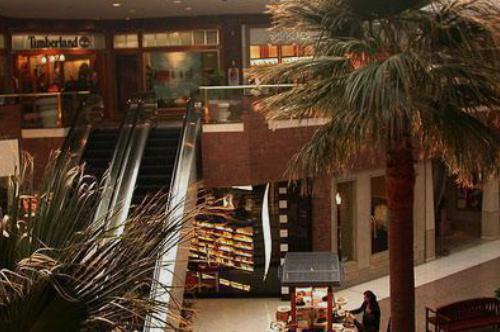Escaleras: (51, 98, 201, 332)
